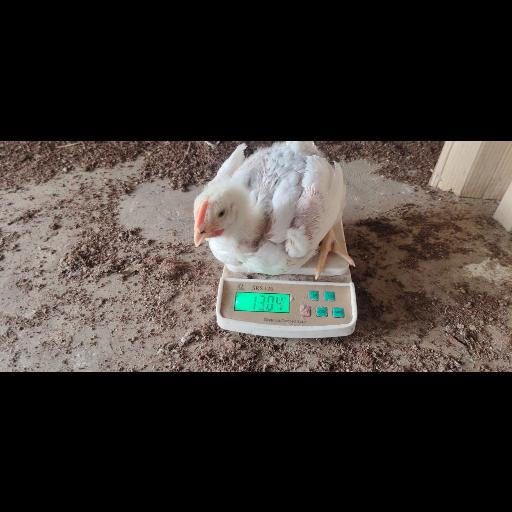chick: (193, 141, 356, 278)
